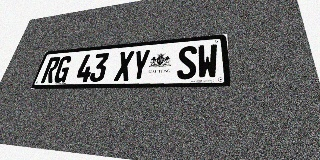3: (89, 53, 110, 82)
4: (75, 54, 96, 82)
G: (52, 56, 73, 83)
R: (40, 57, 61, 83)
S: (177, 45, 197, 80)
W: (197, 44, 218, 79)
X: (114, 51, 135, 81)
Y: (130, 49, 151, 81)
